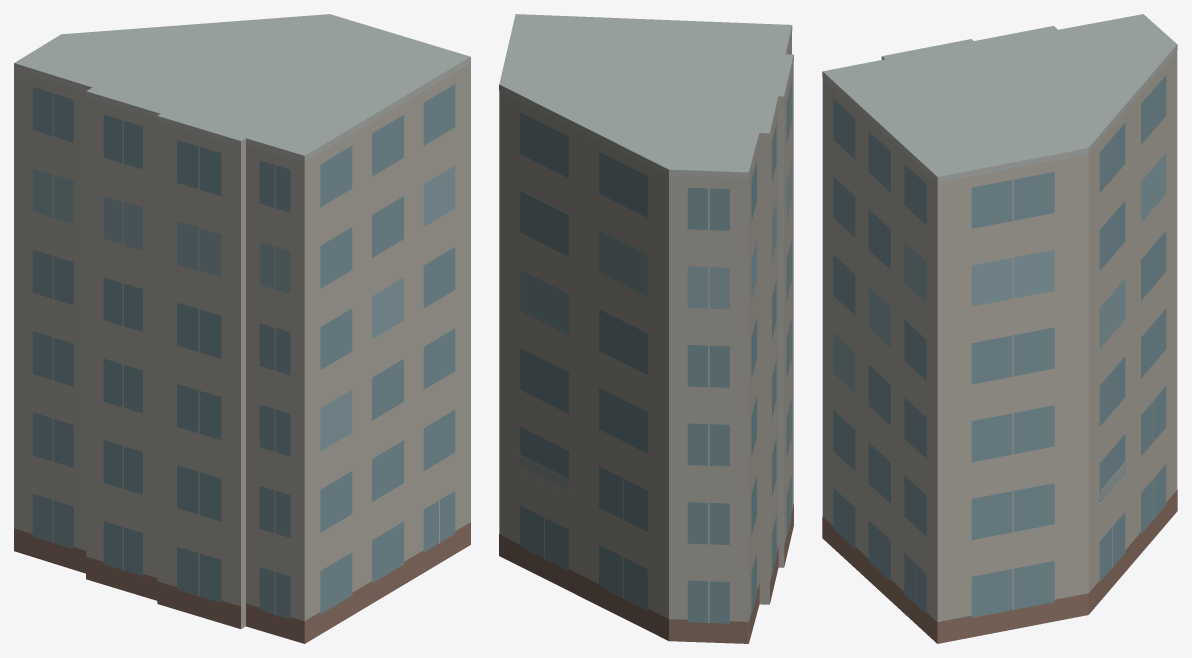
The model's file is survey-upis-32529339.glb.
3 views of the same model, side by side, from view 1: azimuth 30°, elevation 25°; view 2: azimuth 150°, elevation 25°; view 3: azimuth 270°, elevation 25° (orthographic). The views are drawn at different scales.
Parts seen in each view (by area): view 1: survey-upis-32529339.tmp; view 2: survey-upis-32529339.tmp; view 3: survey-upis-32529339.tmp.
Part boxes in pixels (x1=…): survey-upis-32529339.tmp: x1=14, y1=14, x2=470, y2=643; survey-upis-32529339.tmp: x1=499, y1=14, x2=793, y2=643; survey-upis-32529339.tmp: x1=822, y1=14, x2=1177, y2=643.
Bounding box in the file's own units: 14.15 × 18.9 × 13.02.
